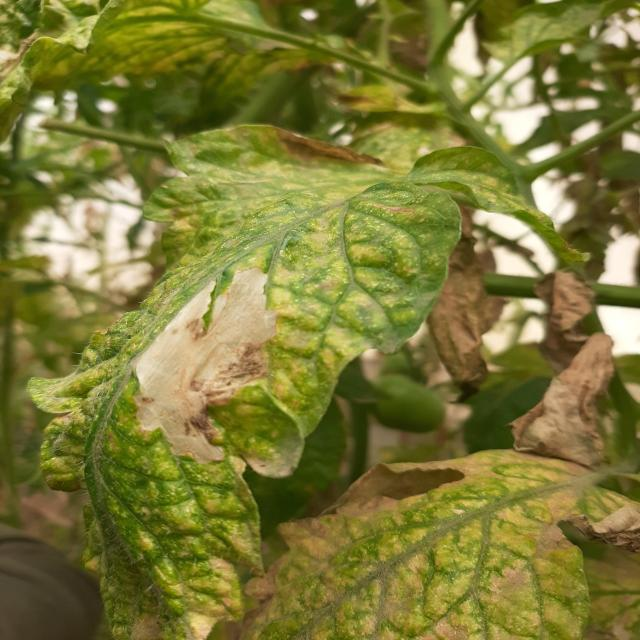Tuta absoluta: (106, 238, 310, 476)
